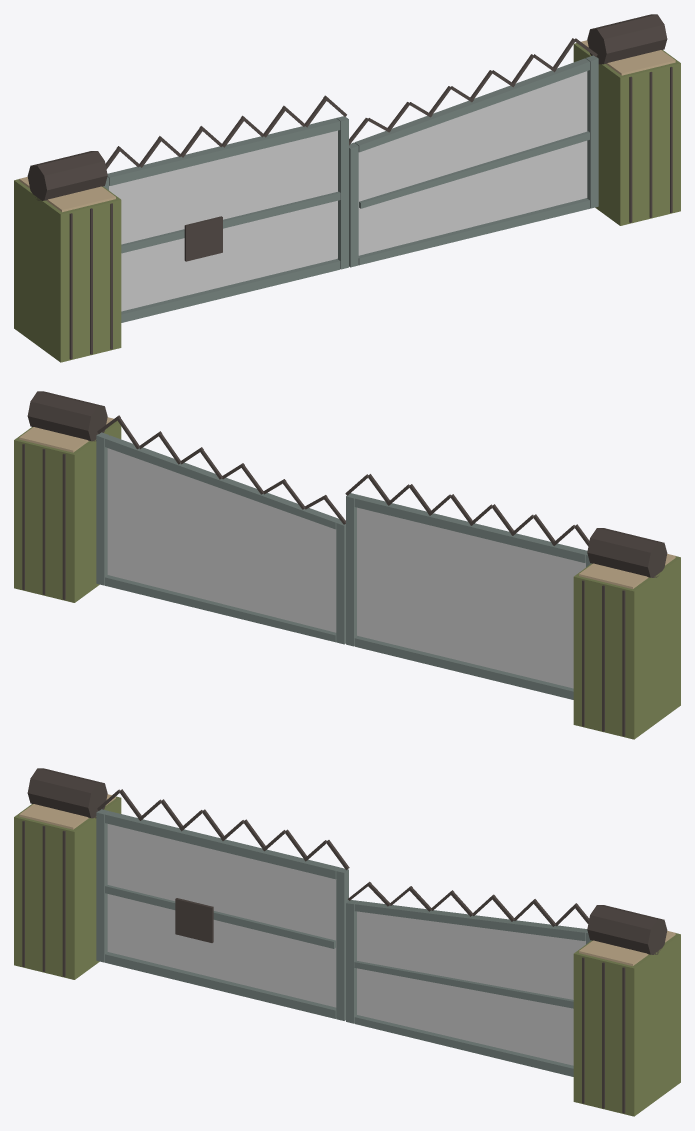
File: SM_PuertaViaDoble_v3_MallaEspino_e1_Danado_LOD0.fbx
3 renders of one model, top to bottom at view 1: azimuth 30°, elevation 25°; view 2: azimuth 150°, elevation 25°; view 3: azimuth 330°, elevation 25°, orthographic.
Visible parts, largest first — view 1: Hoja_O, SM_puerta_via_doble_v13_LOD0, Hoja_E; view 2: Hoja_O, SM_puerta_via_doble_v13_LOD0, Hoja_E; view 3: Hoja_O, SM_puerta_via_doble_v13_LOD0, Hoja_E.
Boxes of the visible parts, x1,y1,x2,y2 form: Hoja_O: (103,95,348,322); SM_puerta_via_doble_v13_LOD0: (14,14,680,362); Hoja_E: (349,38,598,267); Hoja_O: (345,474,591,699); SM_puerta_via_doble_v13_LOD0: (14,391,680,739); Hoja_E: (96,415,345,644); Hoja_O: (96,789,349,1020); SM_puerta_via_doble_v13_LOD0: (14,768,680,1116); Hoja_E: (346,881,591,1076).
Bounding box in the file's own units: 9.2 × 2.55 × 1.24.
